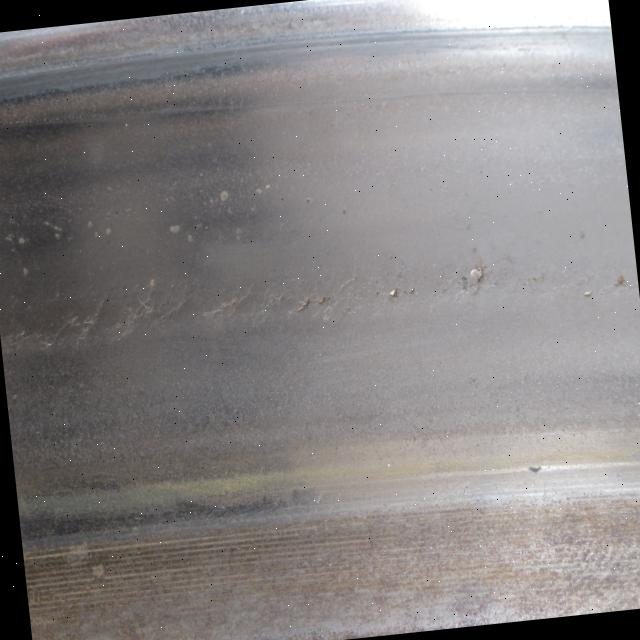Blue hole: (583, 292, 593, 298)
Contact_Fatigue_Cracks: (27, 275, 160, 360), (259, 276, 361, 323), (201, 288, 254, 321), (528, 464, 554, 476)
Peeling: (461, 264, 488, 297), (387, 282, 421, 299)
